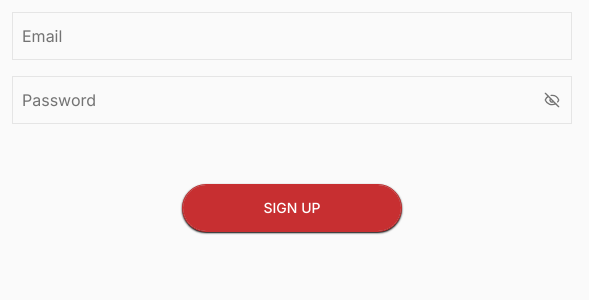
Scenario: SignupForm › shows validation errors on empty submit
Click the button "SIGN UP" at (292, 208), box [182, 184, 402, 232]
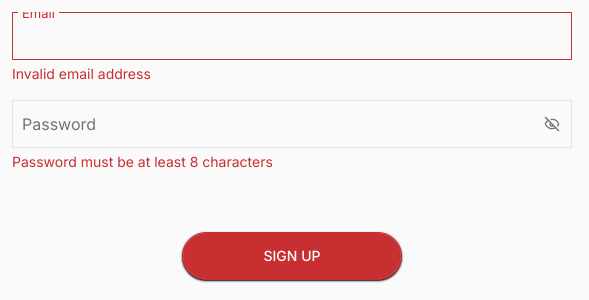
Expected: the text "Invalid email address" is shown, [12, 65, 151, 82]
Expected: the text "Password must be at least 8 characters" is shown, [12, 153, 273, 170]
